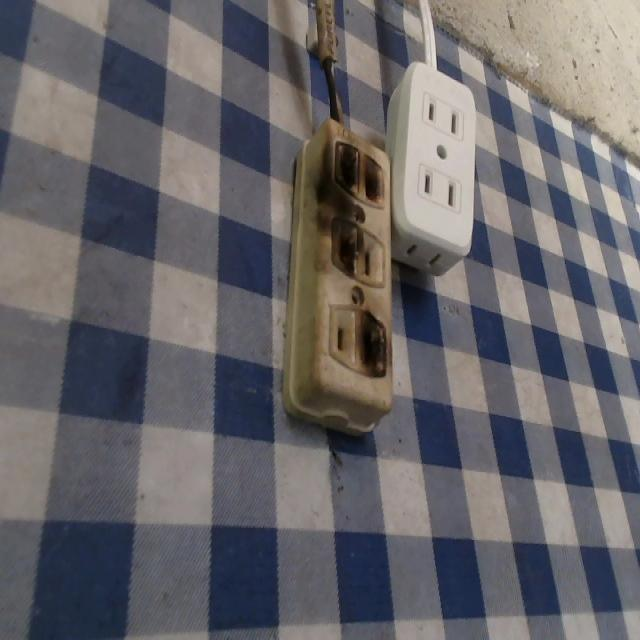-: (317, 129, 404, 215), (350, 293, 394, 388), (323, 202, 361, 290)
